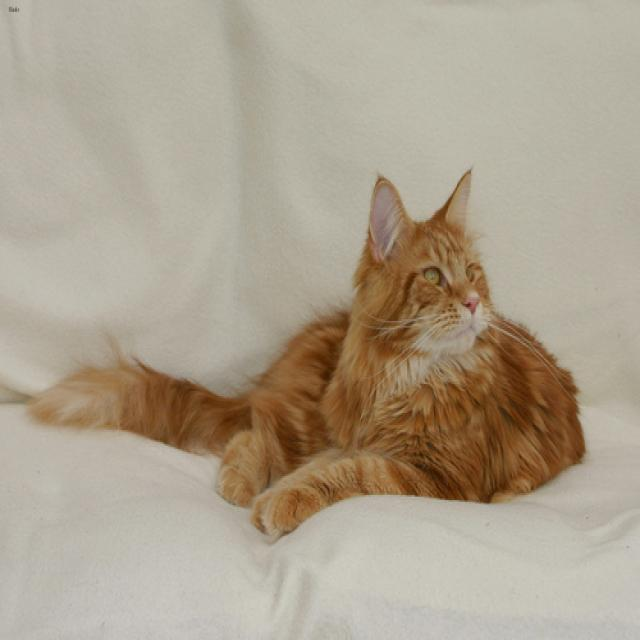Maine_Coon: (349, 162, 494, 357)
